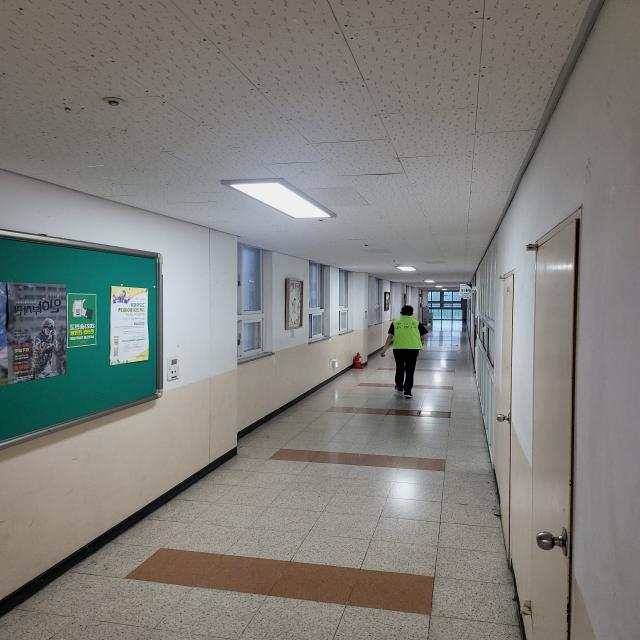weston_spy: (385, 305, 423, 358)
